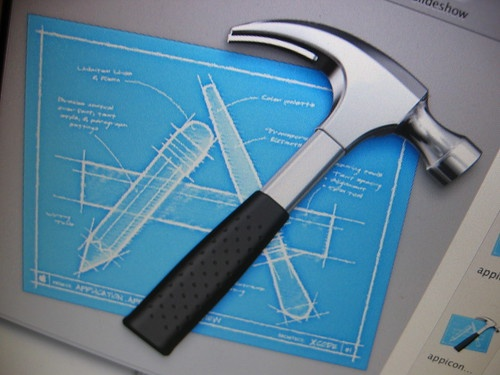hammer: (122, 18, 483, 357)
